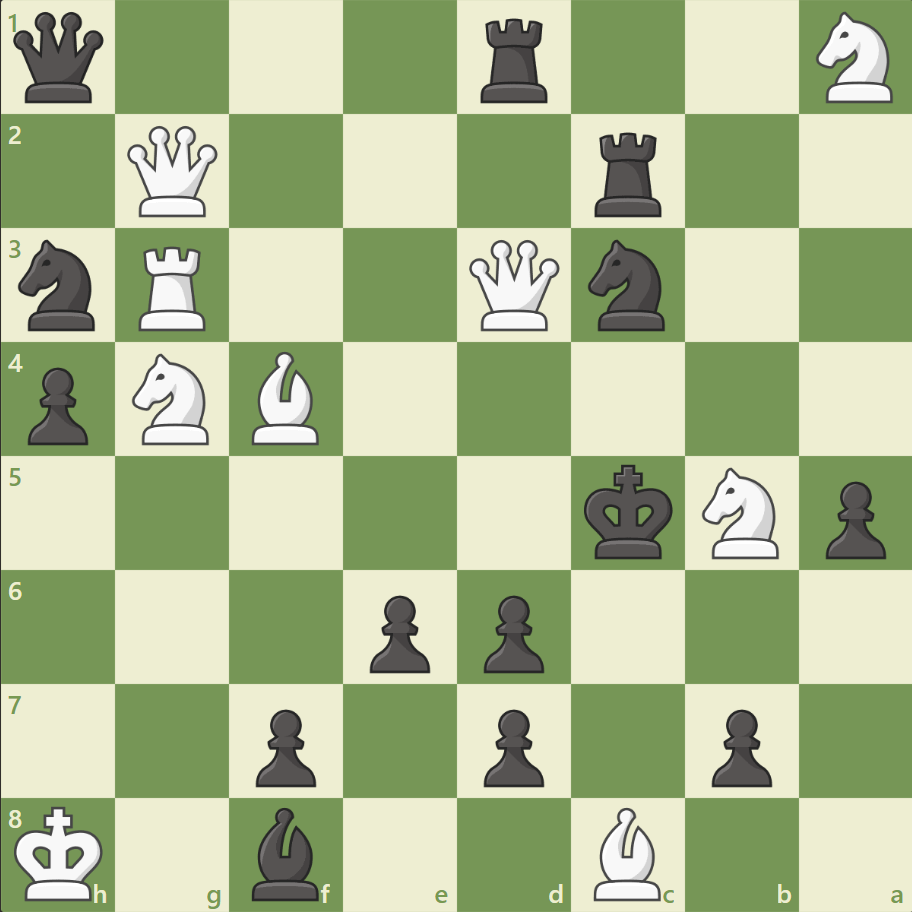B: (585, 801, 669, 904), (244, 347, 328, 449)
K: (11, 798, 111, 906)
N: (124, 348, 222, 450), (692, 461, 789, 564), (806, 7, 903, 110)
Q: (124, 122, 223, 222), (464, 236, 563, 335)
R: (133, 239, 215, 336)
b: (244, 801, 328, 904)
k: (579, 458, 679, 566)
n: (579, 234, 676, 337), (11, 234, 108, 337)
p: (701, 700, 776, 791), (474, 700, 549, 791), (247, 700, 322, 791), (474, 586, 549, 677), (20, 359, 95, 450), (361, 586, 435, 677), (815, 473, 889, 564)
q: (10, 9, 109, 108)
r: (587, 125, 670, 222), (473, 12, 556, 109)
